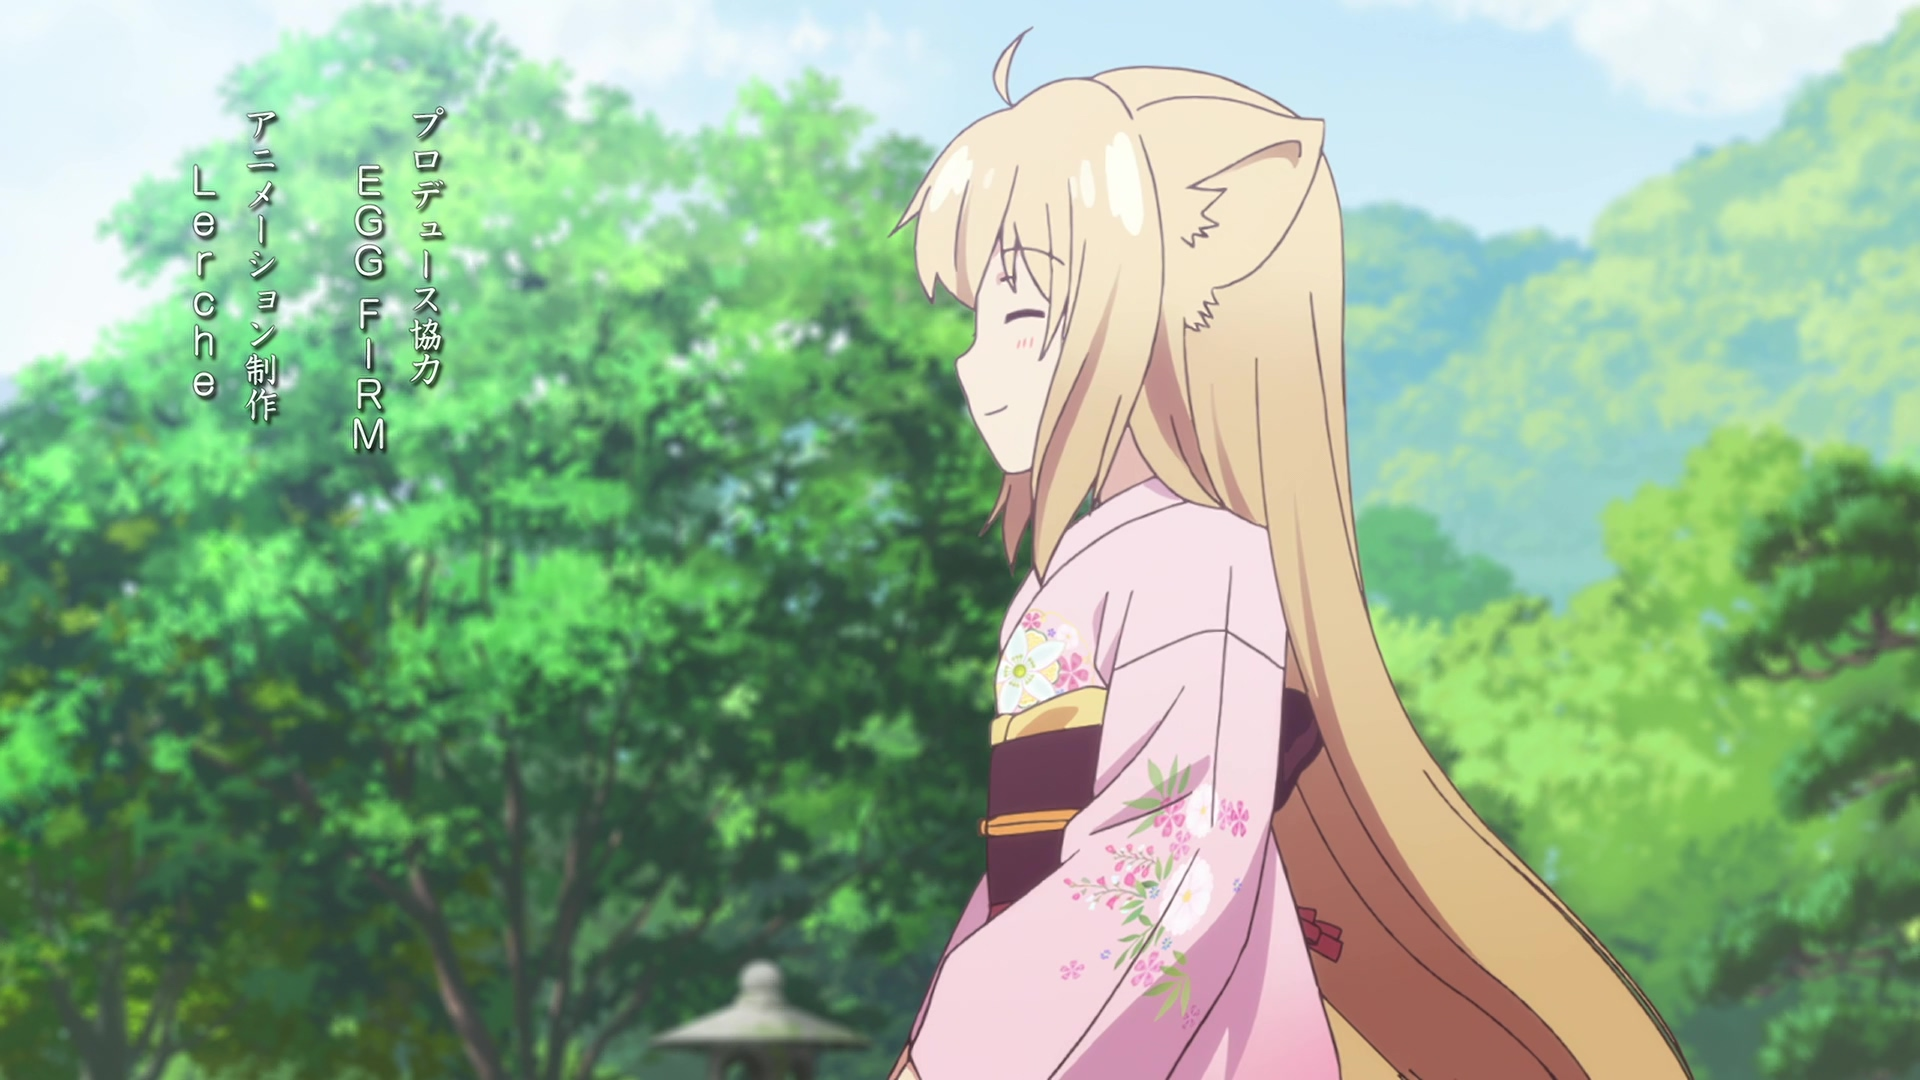柚: (886, 26, 1692, 1080)
